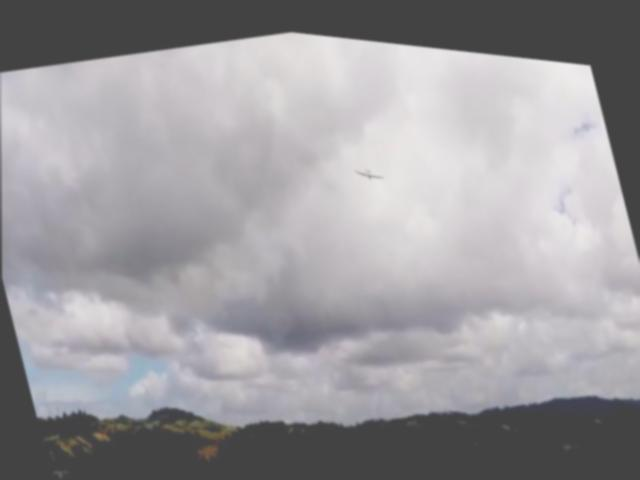iha: (352, 150, 385, 180)
